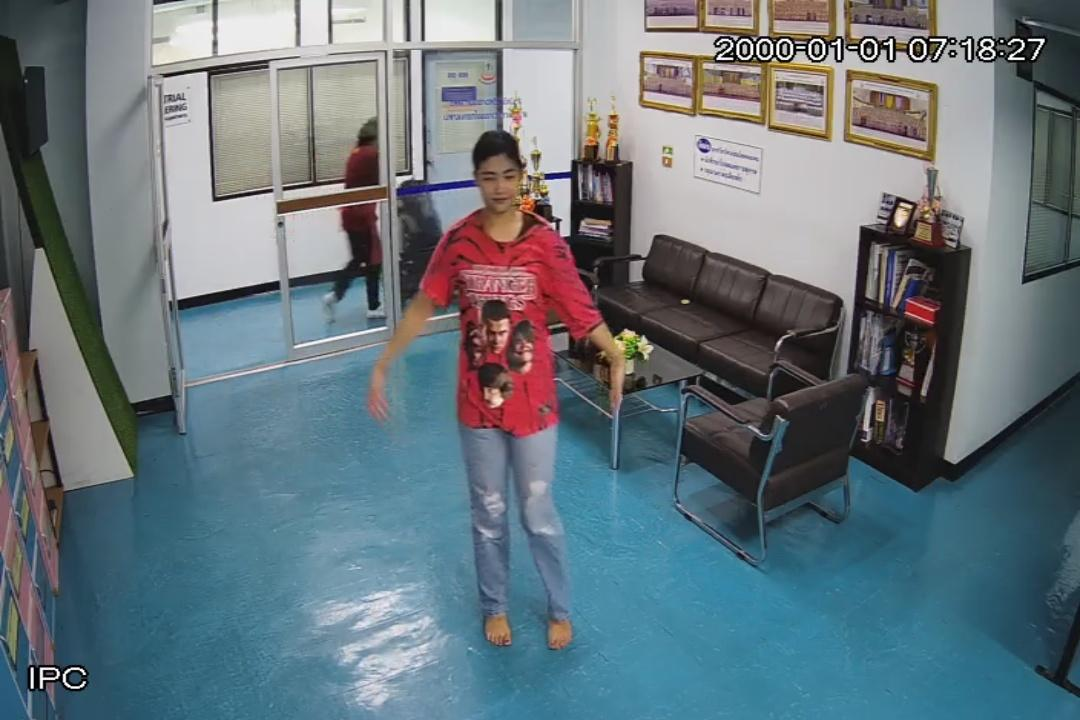normal: (373, 127, 627, 653), (324, 114, 388, 323)
